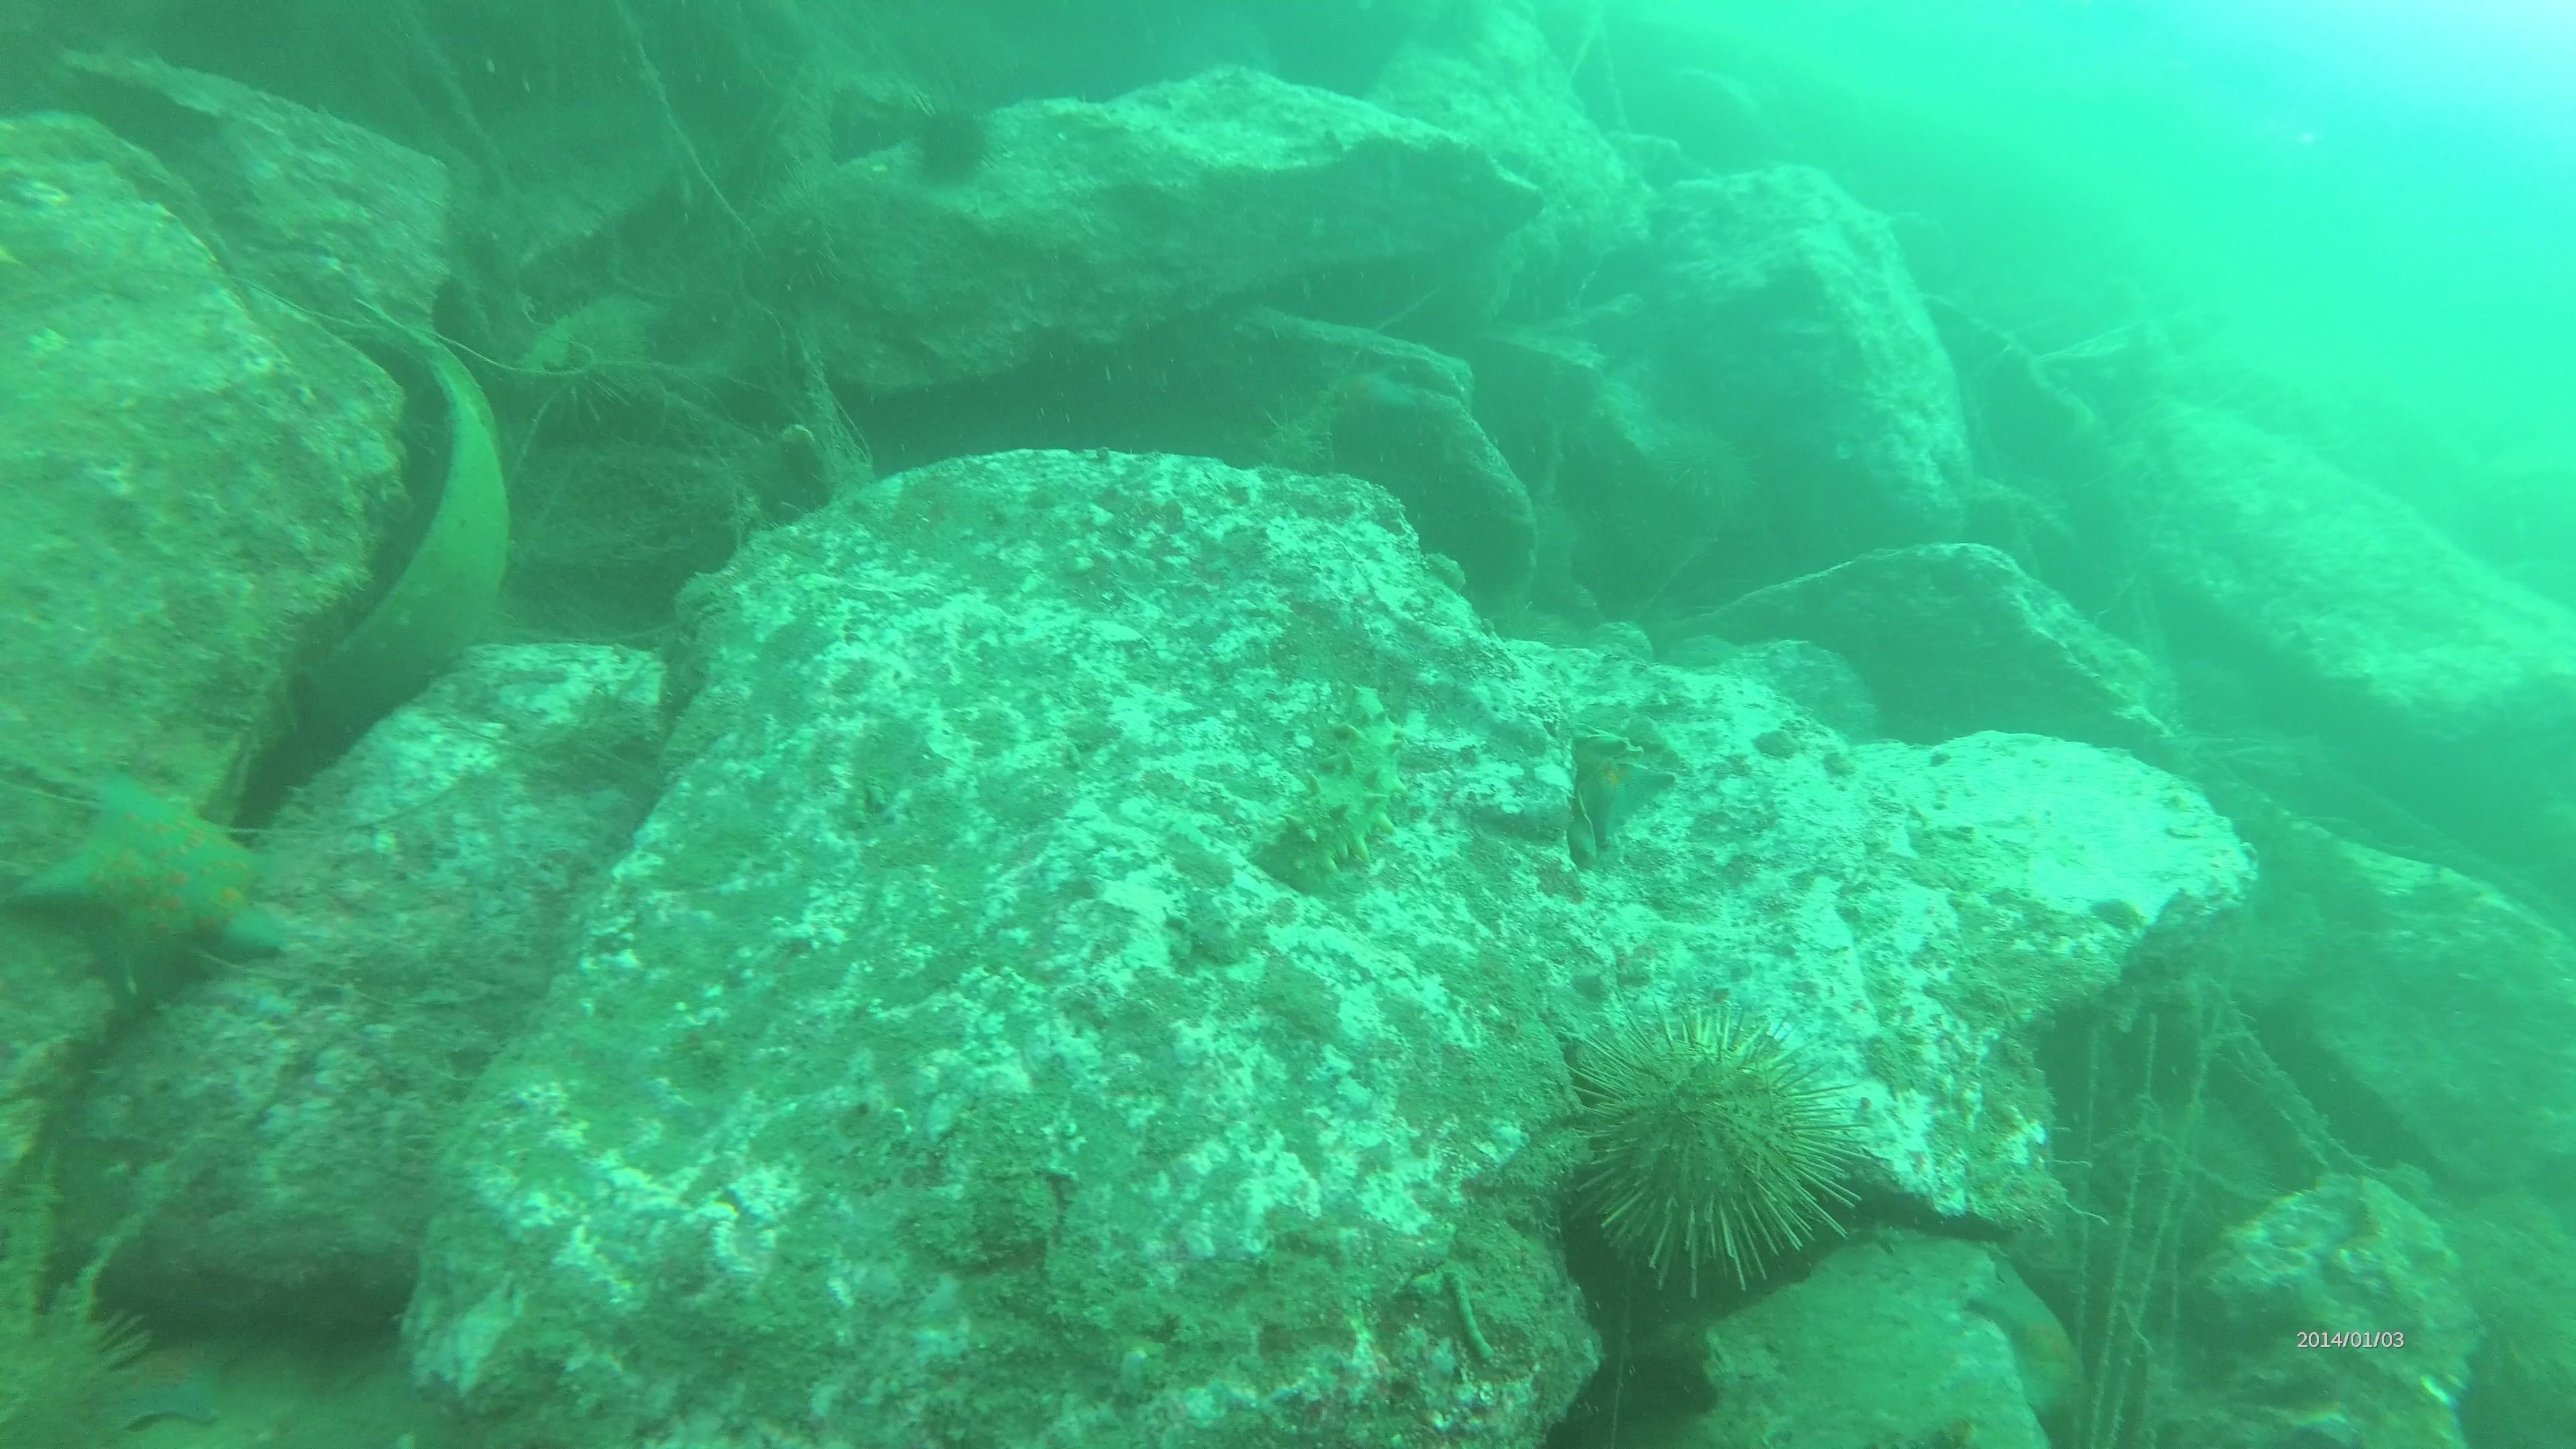echinus: (1560, 998, 1865, 1306), (2, 1263, 202, 1440), (506, 288, 678, 455), (899, 97, 1003, 193)
holothurian: (1254, 683, 1421, 901)
starfish: (12, 766, 297, 1012), (1953, 1251, 2097, 1435), (1557, 722, 1683, 856), (94, 1341, 234, 1435)
